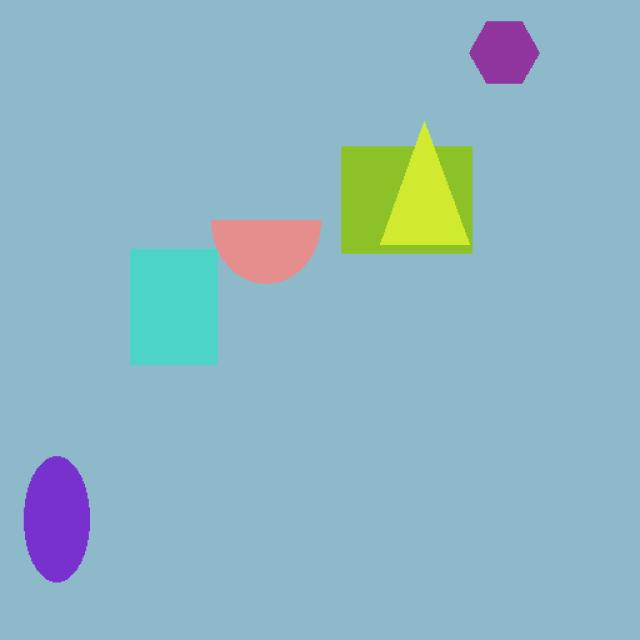Circle: (18, 433, 124, 593)
Hexagon: (450, 10, 590, 101)
Rectangle: (317, 146, 508, 261)
Semicircle: (186, 198, 336, 292)
Triangle: (381, 118, 479, 250)
square: (102, 239, 248, 387)
